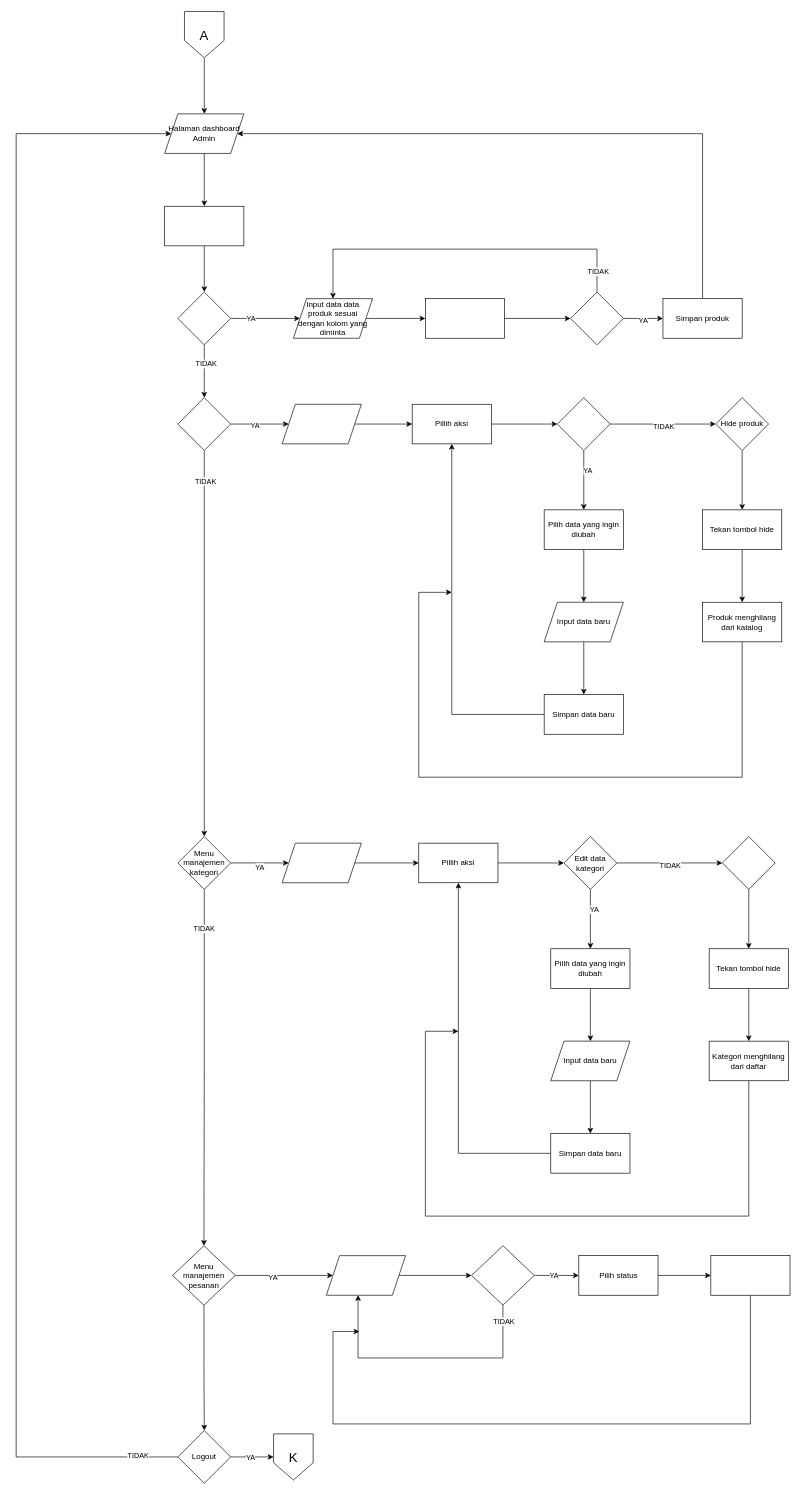
This 802x1495 diagram has some shape labels left out. The shapes that lost their labels are listed below. From the top down, each one's centre as x and y in pixels, then its label:
the point at 204,226: Pilih menu
the point at 204,318: Menu tambah produk
the point at 465,318: Validasi data data produk
the point at 596,318: Data sesuai?
the point at 204,423: Menu manajemen produk
the point at 321,424: Daftar produk
the point at 583,423: Edit data produk
the point at 321,862: Daftar kategori
the point at 748,862: Hide kategori
the point at 366,1275: Daftar pesanan
the point at 502,1275: Ubah status pesanan?
the point at 750,1275: Simpan perubahan
